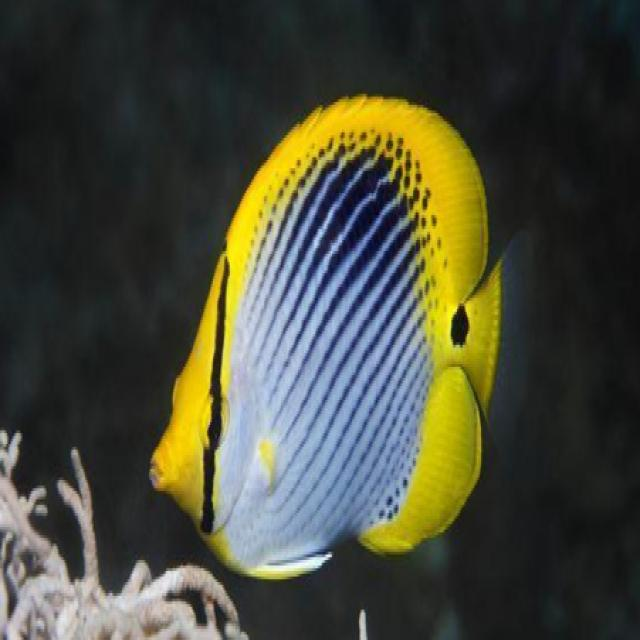ButterflyFish: (158, 86, 540, 560)
